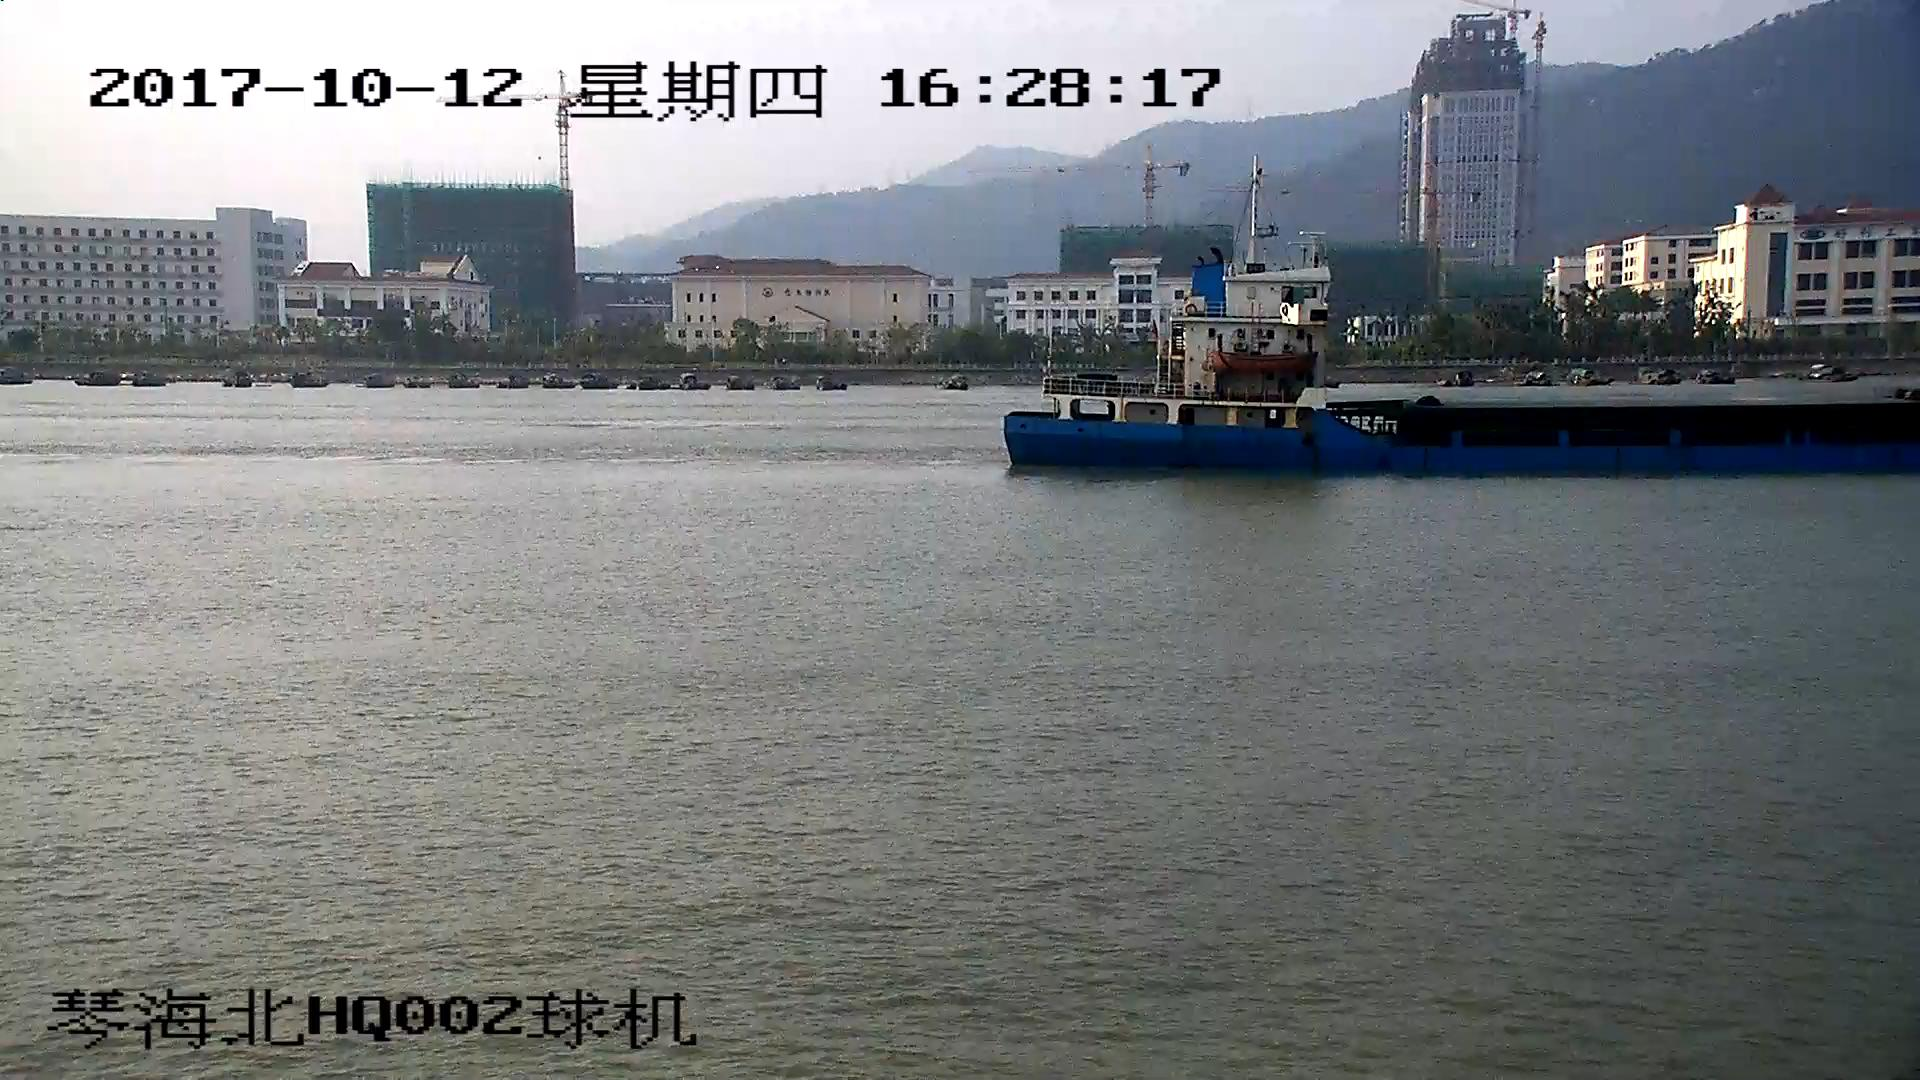general cargo ship: (1007, 171, 1920, 480)
